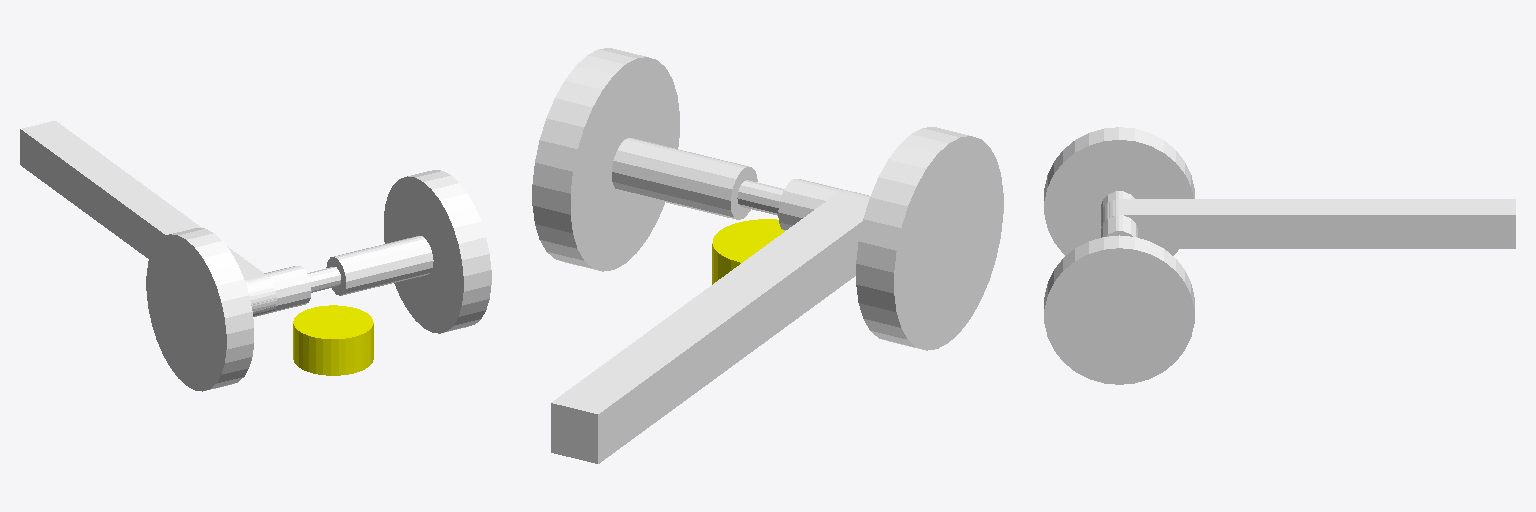
robot.urdf — model:
<?xml version="1.0" encoding="utf-8"?>
<!-- This URDF was automatically created by SolidWorks to URDF Exporter! Originally created by [author] ([email redacted]) 
     Commit Version: 1.6.0-4-g7f85cfe  Build Version: 1.6.7995.38578
     For more information, please see http://wiki.ros.org/sw_urdf_exporter -->
<robot
  name="model">
  <link
    name="base_link">
    <visual>
      <origin rpy="0 0 0" xyz="0 0 -0.1"/>
      <geometry>
        <cylinder length="0.1" radius="0.1"/>
      </geometry>
      <material
        name="">
        <color
          rgba="1 1 0 0" />
      </material>
    </visual>
  </link>

  <link
    name="wheel_base">
    <!-- <inertial>
      <origin
        xyz="0 0 6.93889390390723E-18"
        rpy="0 0 0" />
      <mass
        value="0.029845130209103" />
      <inertia
        ixx="3.49534907635339E-05"
        ixy="-2.74320883009007E-22"
        ixz="-9.21581989712667E-40"
        iyy="5.08545310799847E-06"
        iyz="-2.73196242009686E-39"
        izz="3.49534907635339E-05" />
    </inertial> -->
    <visual>
      <origin
        xyz="0.2 0 0"
        rpy="0 0 0" />
      <geometry>
        <mesh
          filename="package://model/meshes/wheel_base.STL" />
      </geometry>
      <material
        name="">
        <color
          rgba="1 1 1 1" />
      </material>
    </visual>
    <collision>
      <origin
        xyz="0 0 0"
        rpy="0 0 0" />
      <geometry>
        <mesh
          filename="package://model/meshes/wheel_base.STL" />
      </geometry>
    </collision>
  </link>
  <link
    name="rod">
    <!-- <inertial>
      <origin
        xyz="-0.0200959985680807 2.77555756156289E-17 0.0511971761091537"
        rpy="0 0 0" />
      <mass
        value="0.00785398163397448" />
      <inertia
        ixx="5.72684475393794E-06"
        ixy="3.00886947816164E-22"
        ixz="2.20937466722226E-06"
        iyy="6.59407208019107E-06"
        iyz="-7.48426125066208E-22"
        izz="9.65402096677818E-07" />
    </inertial> -->
    <visual>
      <origin
        xyz="0 0 0"
        rpy="0 0 0" />
      <geometry>
        <mesh
          filename="package://model/meshes/rod.STL" />
      </geometry>
      <material
        name="">
        <color
          rgba="1 1 1 1" />
      </material>
    </visual>
    <collision>
      <origin
        xyz="0 0 0"
        rpy="0 0 0" />
      <geometry>
        <mesh
          filename="package://model/meshes/rod.STL" />
      </geometry>
    </collision>
  </link>

  <joint
    name="base_to_wheel_x" type="fixed">
    <parent link="base_link"/>
    <child link="wheel_base"/>
    <axis xyz="1 0 0"/>
    <origin xyz="0 0 0"/>
    <limit
      lower="-100"
      upper="100"
      effort="100"
      velocity="100"/>
  </joint>

<!--   <joint
    name="base_to_wheel_y" type="prismatic">
    <parent link="base_link"/>
    <child link="wheel_base"/>
    <axis xyz="0 1 0"/>
    <origin xyz="0 0 0"/>
    <limit
      lower="-100"
      upper="100"
      effort="100"
      velocity="100"/>
  </joint>

  <joint
    name="base_to_wheel_rotation"
    type="continuous">
    <origin
      xyz="0 0 0"
      rpy="0 0 0" />
    <parent
      link="base_link" />
    <child
      link="wheel_base" />
    <axis
      xyz="0 0 1" />
  </joint>
 -->
  <!-- <joint
    name="wheel_to_rod"
    type="continuous">
    <origin
      xyz="0 0.03 0.055"
      rpy="0.45 0 0" />
    <parent
      link="wheel_base" />
    <child
      link="rod" />
    <axis
      xyz="1 0 0" />
  </joint> -->
  <joint
    name="wheel_to_rod"
    type="continuous">
    <origin
      xyz="0 0 0"
      rpy="0 0 0" />
    <parent
      link="wheel_base" />
    <child
      link="rod" />
    <axis
      xyz="0 -1 0" />
  </joint>
</robot>

--- Render facts (derived) ---
Views: 3 orthographic renders of the robot side by side, from view 1: azimuth 30°, elevation 25°; view 2: azimuth 150°, elevation 25°; view 3: azimuth 270°, elevation 25°.
Model model with 3 links and 2 joints (1 continuous, 1 fixed), rooted at base_link, posed every joint at zero.
Visible links, largest first — view 1: wheel_base, rod, base_link; view 2: wheel_base, rod, base_link; view 3: wheel_base, rod.
Link boxes in pixels (<box>): wheel_base: <box>146,170,491,391</box>; rod: <box>20,121,276,316</box>; base_link: <box>293,305,373,375</box>; wheel_base: <box>532,48,1003,350</box>; rod: <box>551,190,869,463</box>; base_link: <box>712,219,784,284</box>; wheel_base: <box>1044,127,1194,384</box>; rod: <box>1101,199,1515,248</box>.
Bounding box of the posed robot: 0.76 × 1.25 × 0.4055 m (x, y, z).
2 mesh visuals loaded from 2 distinct referenced files (2 binary STL).